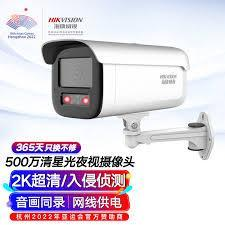tutu: (35, 30, 202, 123)
